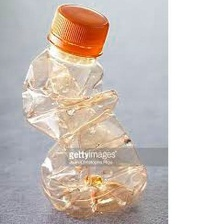bottle: (14, 0, 156, 220)
